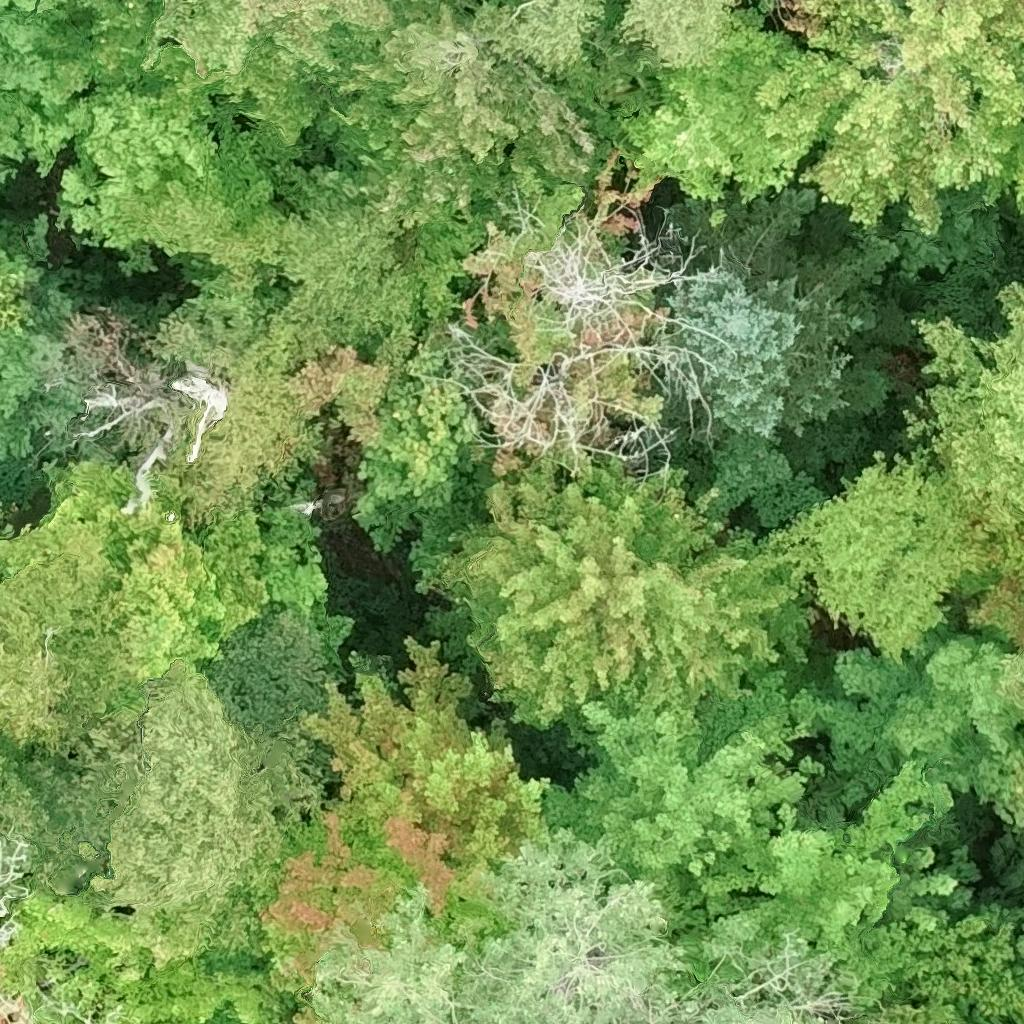crown: (262, 640, 548, 1023), (412, 459, 811, 727), (620, 0, 1023, 244), (316, 836, 827, 1023), (317, 3, 600, 329), (434, 152, 681, 490), (659, 759, 955, 1023), (543, 671, 832, 930), (659, 186, 906, 481), (0, 821, 320, 1023), (0, 0, 350, 178), (91, 658, 322, 919), (0, 457, 257, 681), (0, 212, 165, 505), (765, 452, 977, 662), (829, 627, 1023, 827), (141, 0, 529, 80), (903, 279, 1023, 533), (159, 348, 322, 531), (350, 327, 480, 552), (46, 82, 219, 251), (0, 537, 125, 750), (124, 134, 289, 283), (273, 214, 421, 370), (917, 846, 1023, 1023), (78, 363, 191, 517), (285, 345, 391, 461), (118, 958, 295, 1023), (474, 0, 607, 77), (959, 518, 1023, 651), (616, 0, 738, 69), (172, 363, 226, 461), (0, 757, 43, 858), (984, 126, 1023, 215), (855, 1006, 941, 1023), (0, 0, 60, 15), (1008, 657, 1023, 699), (996, 905, 1023, 926), (1020, 935, 1023, 953), (984, 909, 990, 912), (990, 908, 996, 909)
